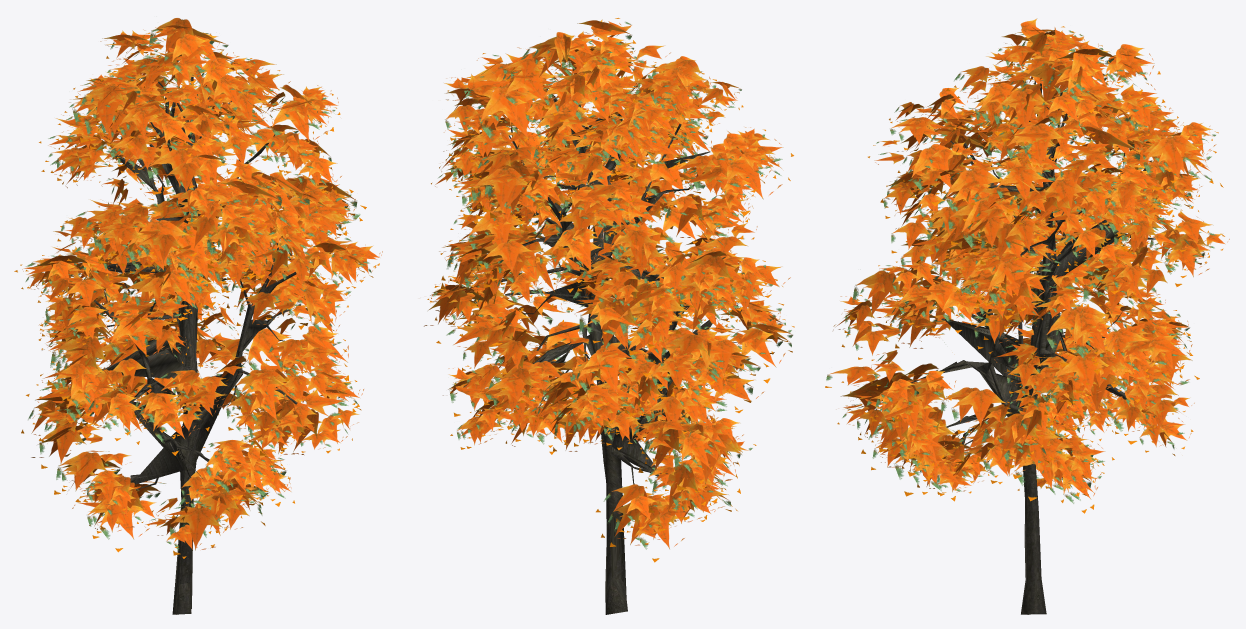
File: arvore.glb
3 renders of one model, left to right at view 1: azimuth 30°, elevation 25°; view 2: azimuth 150°, elevation 25°; view 3: azimuth 270°, elevation 25°, orthographic. The views are drawn at different scales.
Visible parts, largest first — view 1: leaves, leaves_lo, trunk_lo, trunk; view 2: leaves, leaves_lo, trunk, trunk_lo; view 3: leaves, leaves_lo, trunk_lo, trunk.
Part boxes in pixels (box(x1,y1,x2,y2)): leaves: box(20, 23, 382, 558); leaves_lo: box(14, 18, 366, 555); trunk_lo: box(95, 97, 276, 614); trunk: box(83, 75, 297, 614); leaves: box(427, 18, 794, 544); leaves_lo: box(424, 19, 793, 562); trunk: box(500, 69, 737, 614); trunk_lo: box(534, 97, 712, 598); leaves: box(837, 26, 1229, 502); leaves_lo: box(825, 18, 1224, 513); trunk_lo: box(946, 113, 1130, 614); trunk: box(910, 80, 1155, 614).
Bounding box in the file's own units: 6.1 × 10.8 × 6.74.
2 materials, 2 textured.
